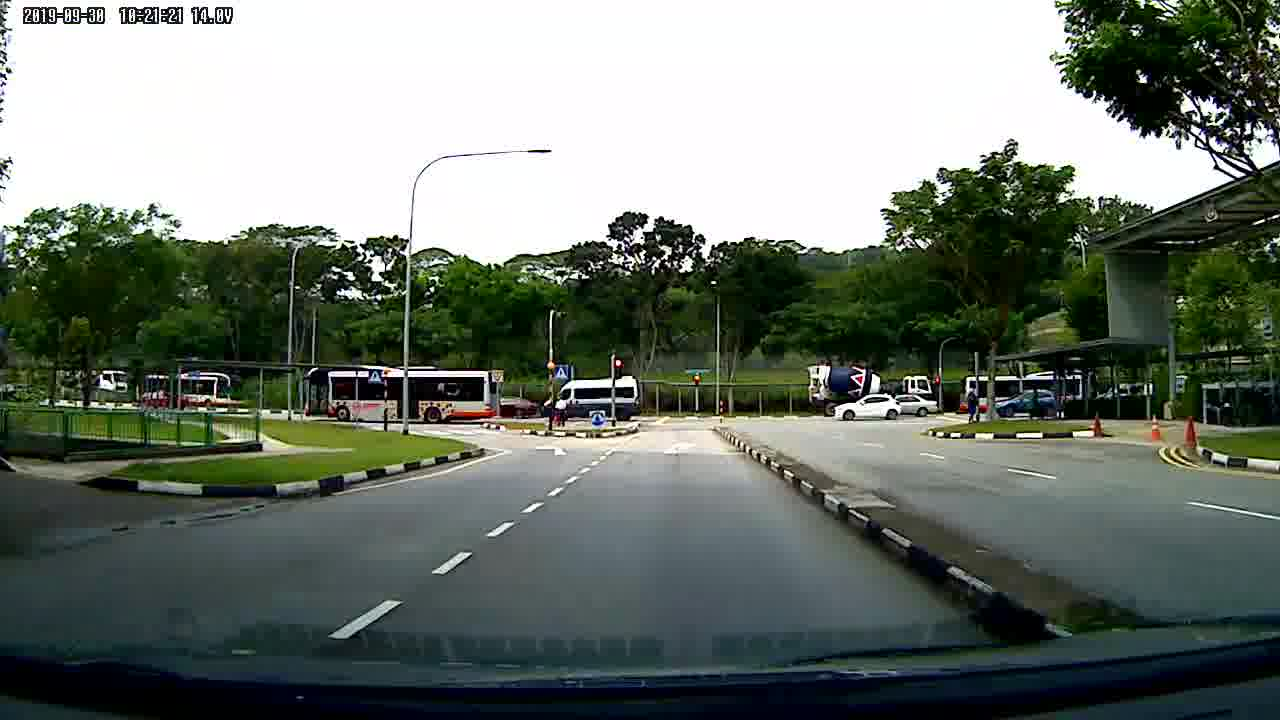bus: (303, 362, 500, 430), (135, 372, 250, 413)
car: (994, 388, 1063, 421), (833, 395, 901, 421), (896, 391, 938, 420)
